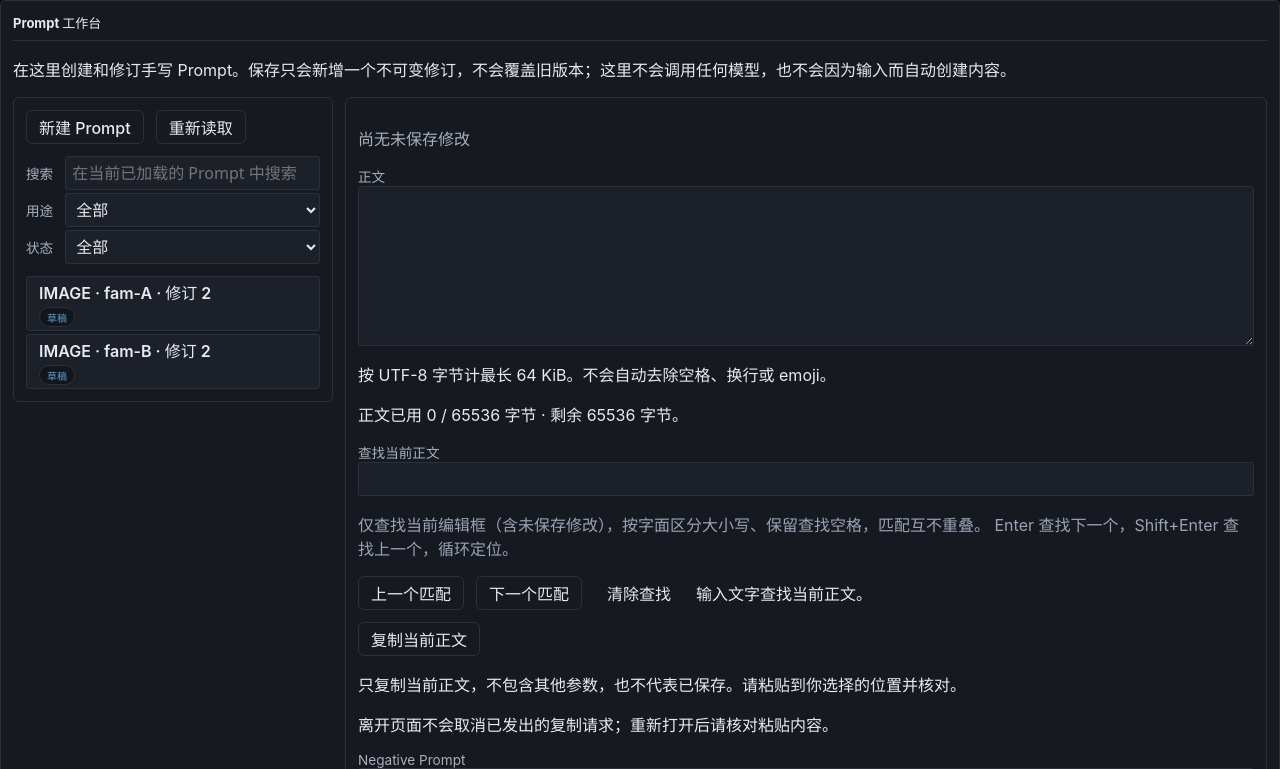
任务 1：被废弃的读取不得清除仍在进行的读取所拥有的 loading › A 失败时 B 仍在读取，界面不得提前认为已就绪
A 的详情读取挂起，紧接着 B 的详情读取也挂起。
Click the button "IMAGE · fam-A · 修订 2 草稿". click: (173, 304)
box: [26,276,320,331]
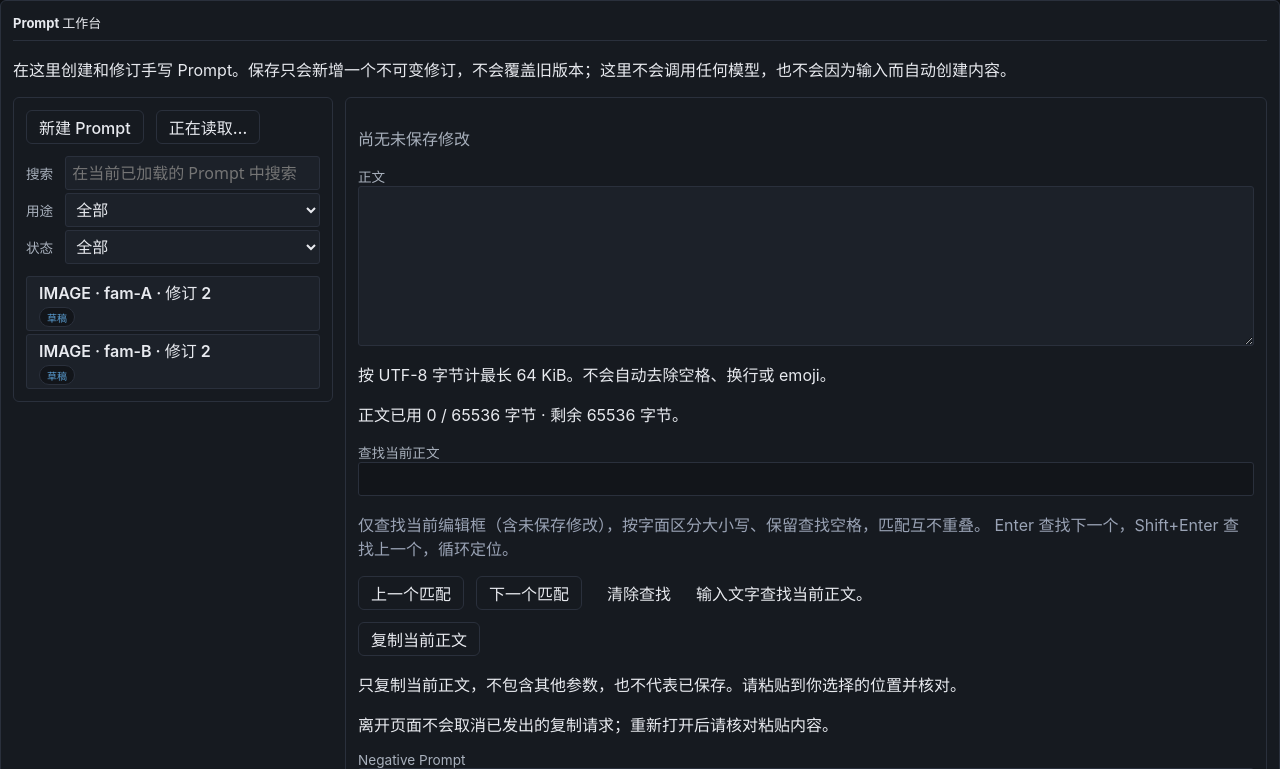
Click the button "IMAGE · fam-B · 修订 2 草稿". click: (173, 362)
box: [26,334,320,389]
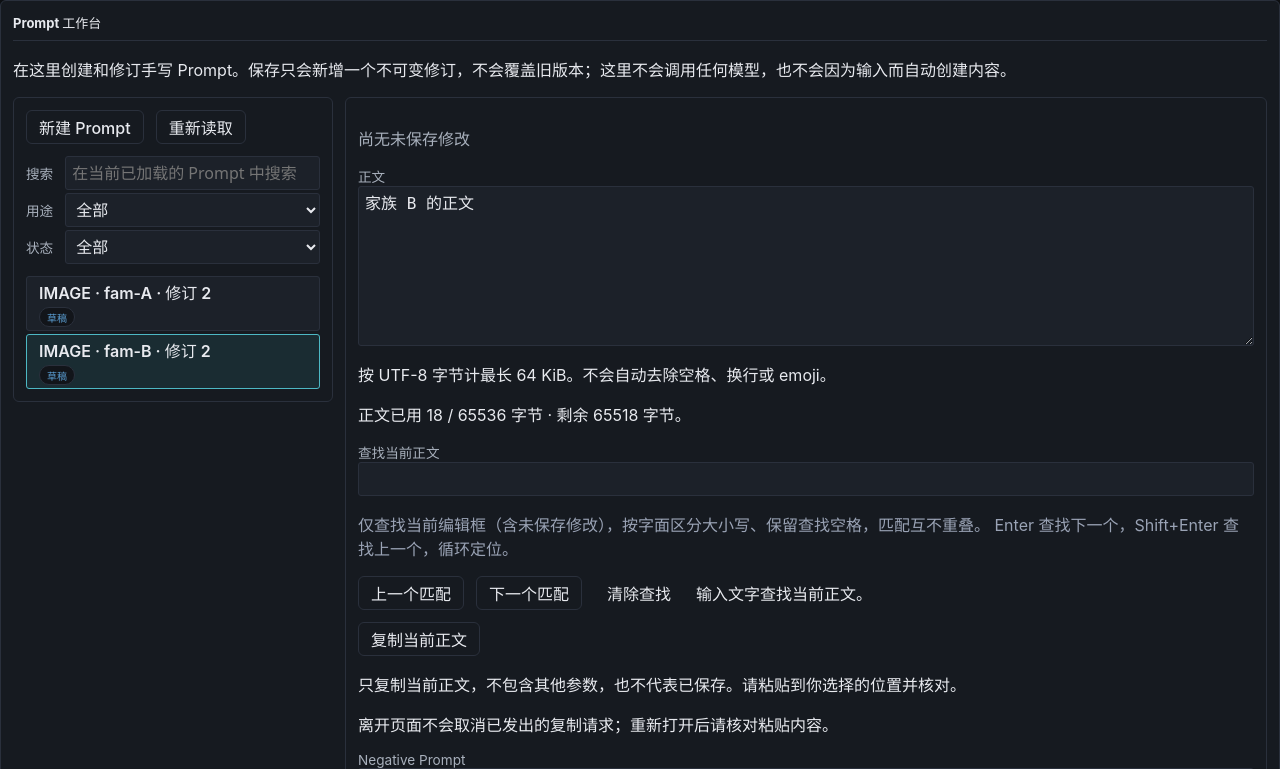
Now the text box labelled "正文" holds "家族 B 的正文", box [358,186,1254,346]
